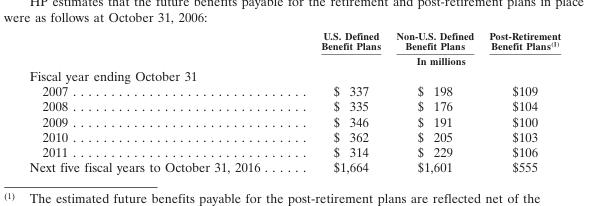table: (28, 28, 560, 174)
table column: (28, 28, 290, 174), (290, 28, 387, 174), (387, 28, 480, 174), (480, 28, 560, 174)
table column header: (28, 28, 560, 66)
table projected row header: (28, 66, 560, 82)
table row: (28, 28, 560, 52), (28, 66, 560, 82), (28, 97, 560, 113), (28, 143, 560, 159), (28, 82, 560, 97), (28, 113, 560, 128), (28, 128, 560, 143), (28, 159, 560, 174), (28, 52, 560, 66)
table spanning cell: (290, 52, 560, 66)
